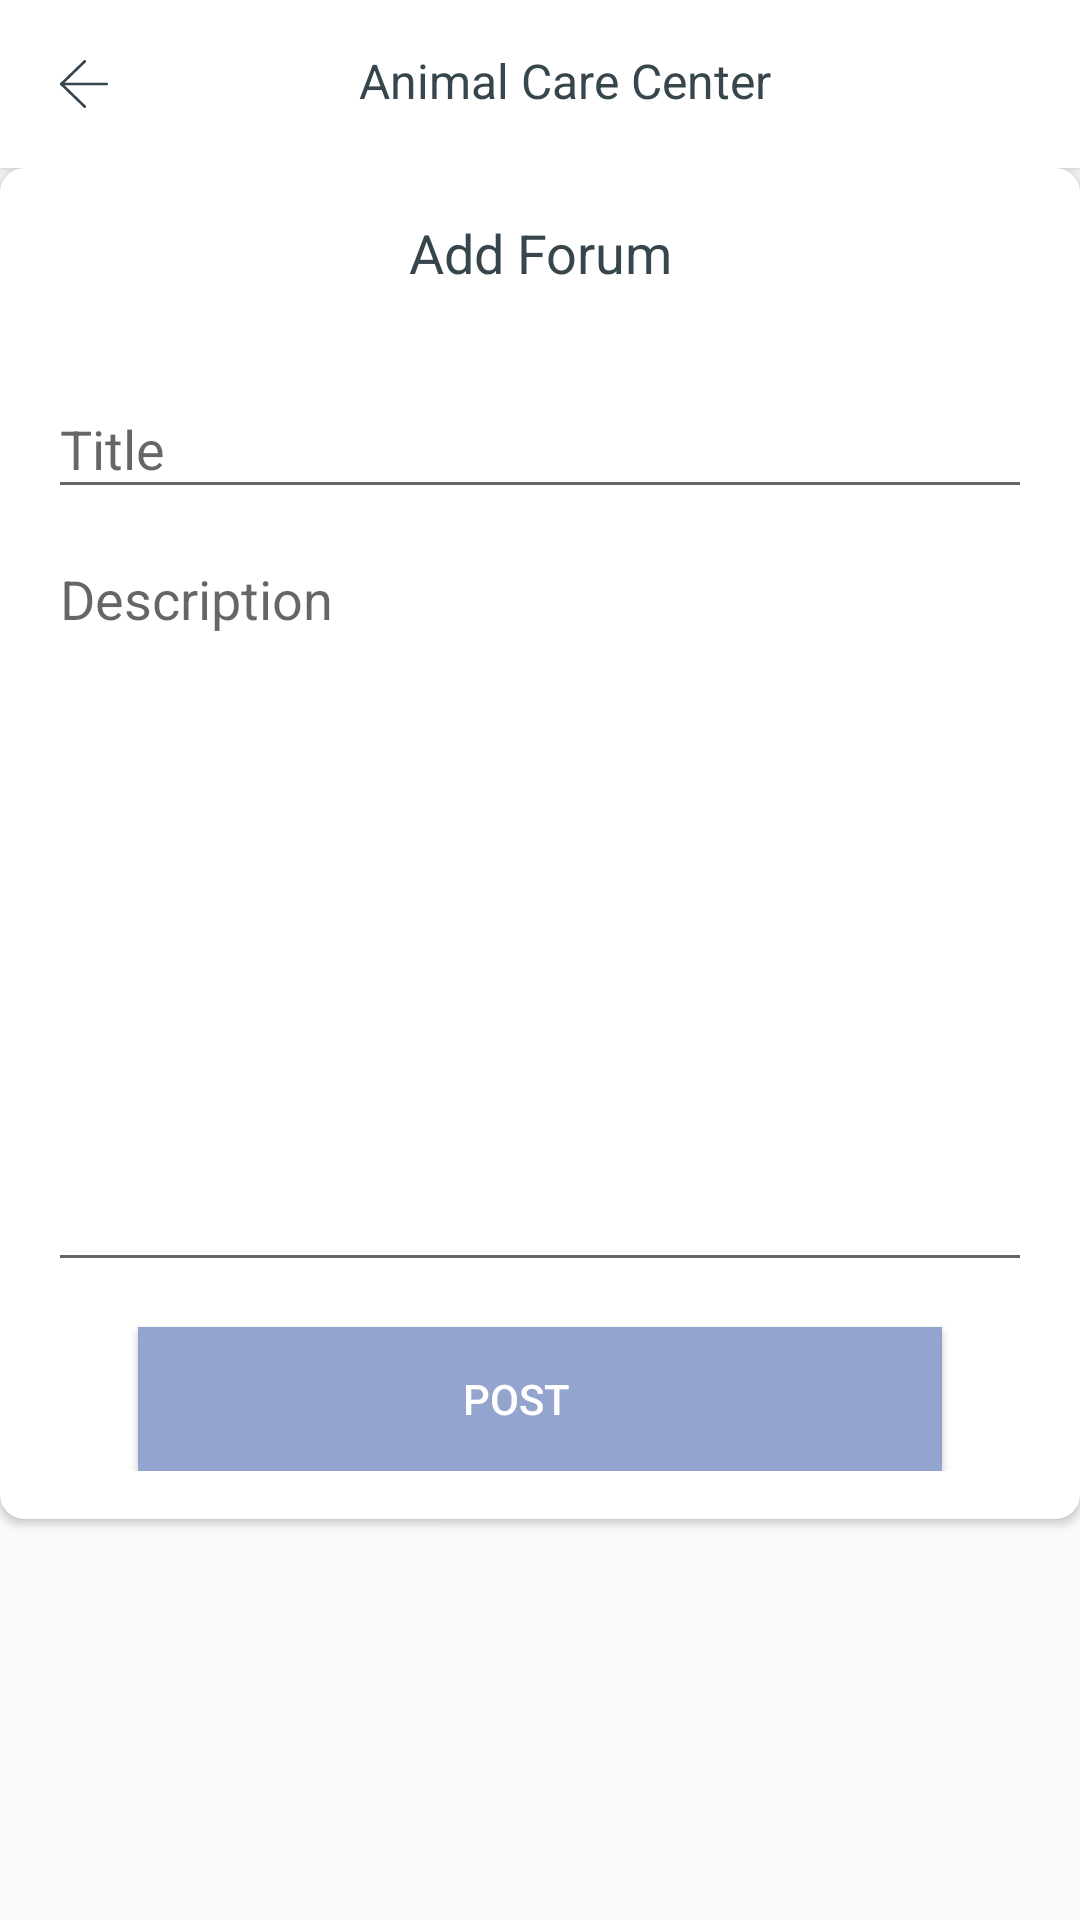

Icons on this 1080*1920 Android screen, each with its box as region(x1, y1, x2, y2):
left arrow: region(60, 60, 108, 108)
